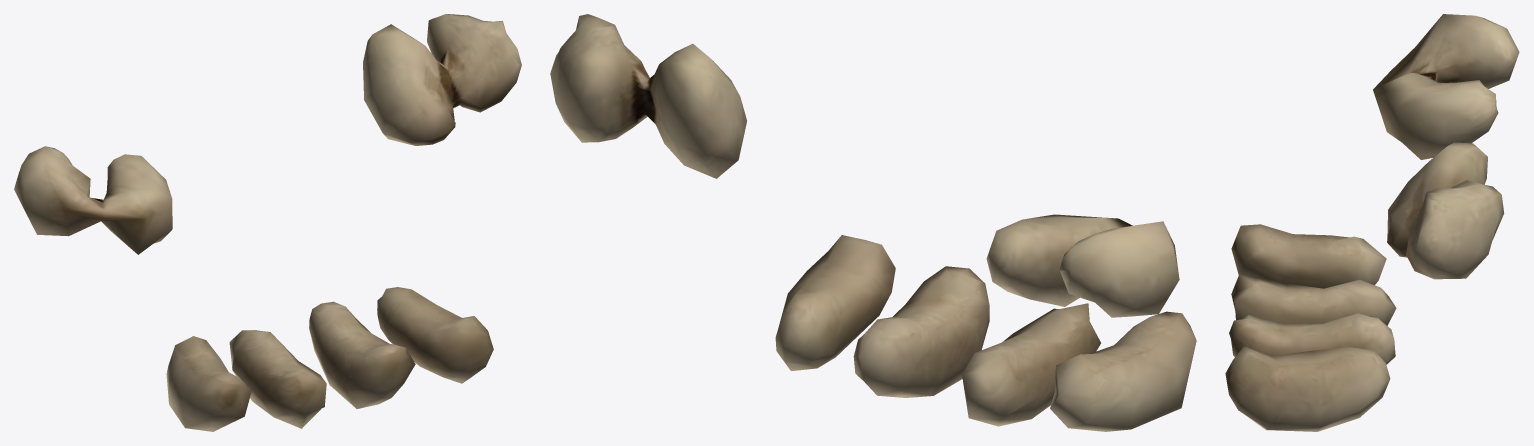
File: Proximal_Sesamoid.glb
The picture shows the model from 3 angles, left to right: view 1: azimuth 30°, elevation 25°; view 2: azimuth 150°, elevation 25°; view 3: azimuth 270°, elevation 25°; orthographic projection. The views are drawn at different scales.
Parts seen in each view (by area): view 1: polySurface53, polySurface58, polySurface55, polySurface54, polySurface56, polySurface57; view 2: polySurface53, polySurface58, polySurface55, polySurface57, polySurface54, polySurface56; view 3: polySurface58, polySurface53, polySurface54, polySurface57, polySurface56, polySurface55.
Part boxes in pixels (bbox=[...]): polySurface53: bbox=[363, 14, 521, 145]; polySurface58: bbox=[14, 146, 172, 254]; polySurface55: bbox=[309, 301, 415, 408]; polySurface54: bbox=[377, 287, 493, 383]; polySurface56: bbox=[229, 330, 326, 428]; polySurface57: bbox=[166, 336, 251, 431]; polySurface53: bbox=[550, 14, 746, 178]; polySurface58: bbox=[986, 214, 1179, 317]; polySurface55: bbox=[853, 266, 989, 397]; polySurface57: bbox=[1050, 311, 1196, 431]; polySurface54: bbox=[775, 235, 895, 370]; polySurface56: bbox=[962, 303, 1100, 426]; polySurface58: bbox=[1373, 14, 1519, 159]; polySurface53: bbox=[1387, 142, 1504, 279]; polySurface54: bbox=[1225, 346, 1390, 431]; polySurface57: bbox=[1231, 224, 1386, 288]; polySurface56: bbox=[1231, 274, 1396, 325]; polySurface55: bbox=[1229, 313, 1395, 364].
Bounding box in the file's own units: 34.46 × 19.69 × 17.13.
1 material, 1 textured.
